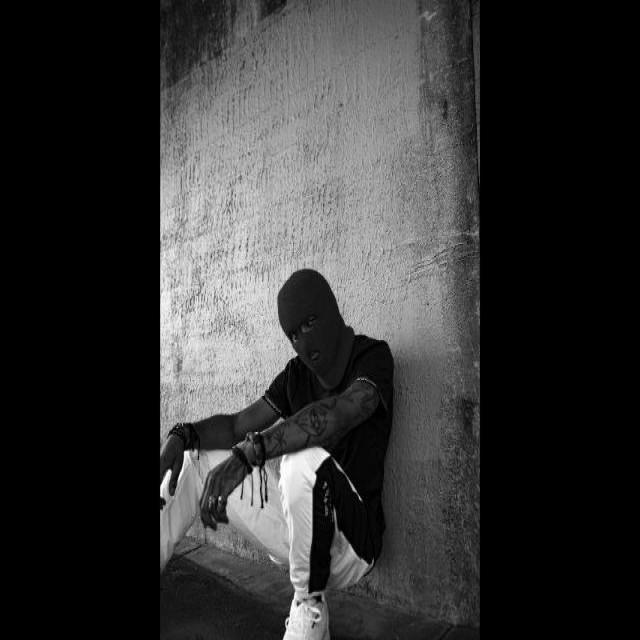6_pasamontana: (278, 269, 356, 390)
